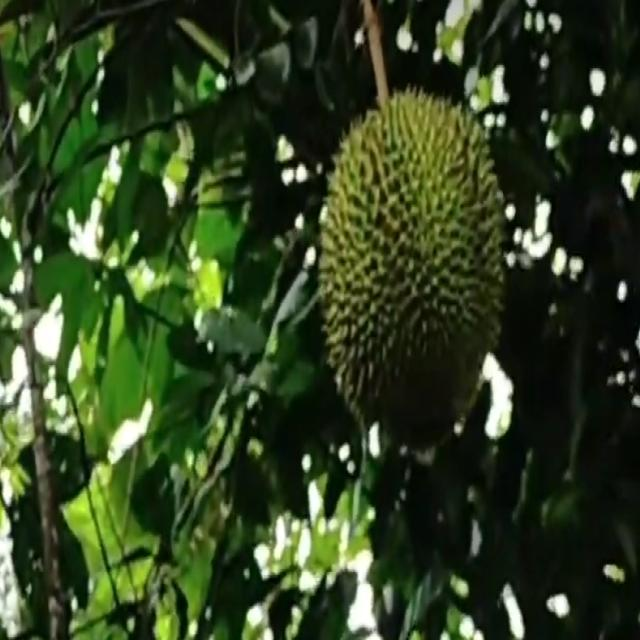immature: (315, 85, 502, 449)
